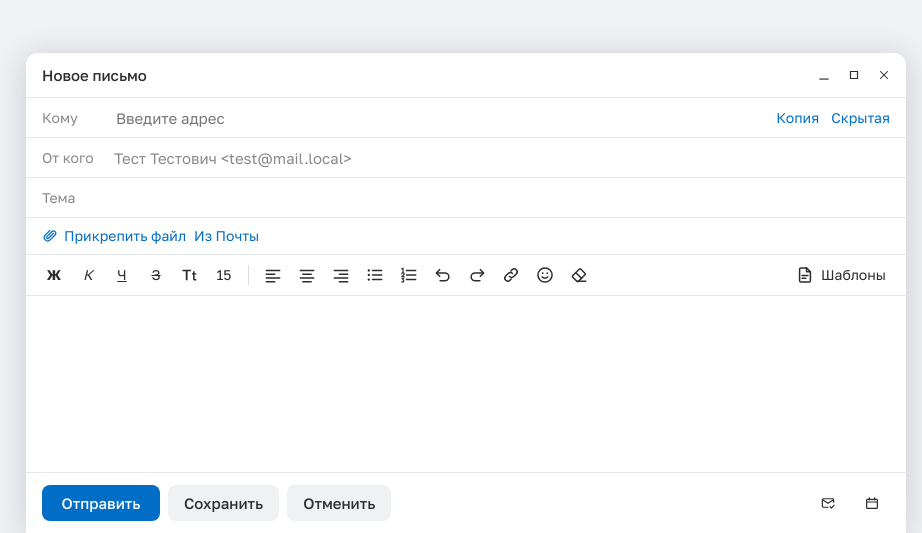
it: кнопка появляется вместе с поведением › сервер отдал возможность — кнопка есть, даже когда шаблонов ноль
Click the button "Шаблоны" at (840, 275), box [787, 259, 894, 291]
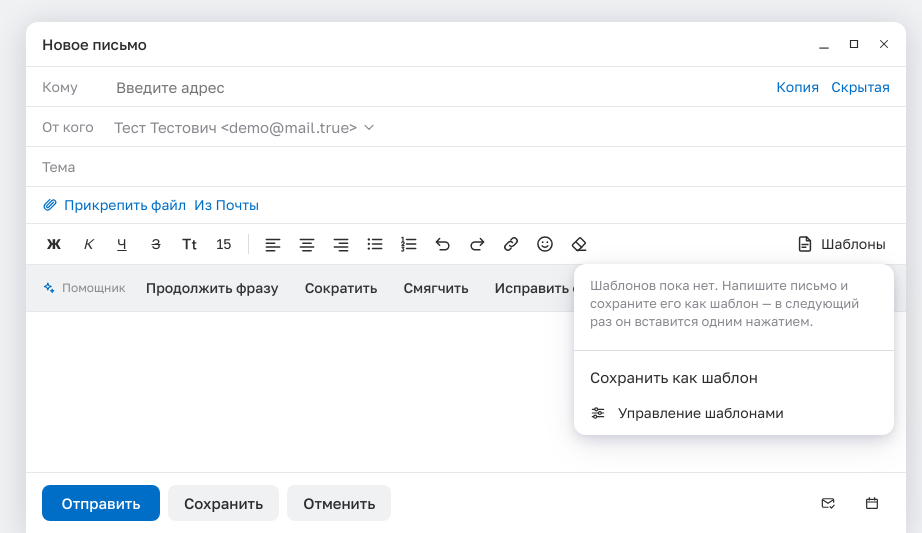
Check: the text "Сохранить как шаблон" is shown, box [590, 367, 758, 387]
